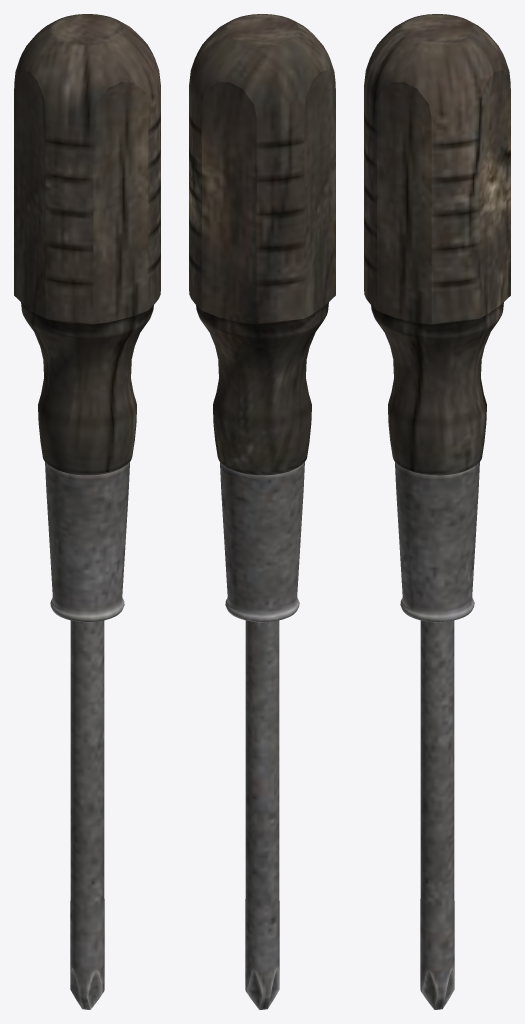
The model's file is chave_fenda2.glb.
3 views of the same model, side by side, from view 1: azimuth 30°, elevation 25°; view 2: azimuth 150°, elevation 25°; view 3: azimuth 330°, elevation 25° (orthographic).
Parts seen in each view (by area): view 1: screwdriver_1_screwdriver_1_0; view 2: screwdriver_1_screwdriver_1_0; view 3: screwdriver_1_screwdriver_1_0.
Boxes of the visible parts, bbox=[...] form: screwdriver_1_screwdriver_1_0: bbox=[14, 14, 160, 1009]; screwdriver_1_screwdriver_1_0: bbox=[189, 14, 335, 1009]; screwdriver_1_screwdriver_1_0: bbox=[364, 14, 510, 1009].
Size of the model in its own units: 0.0271 by 0.22 by 0.0271.
Materials: 1 (1 with a texture image).
